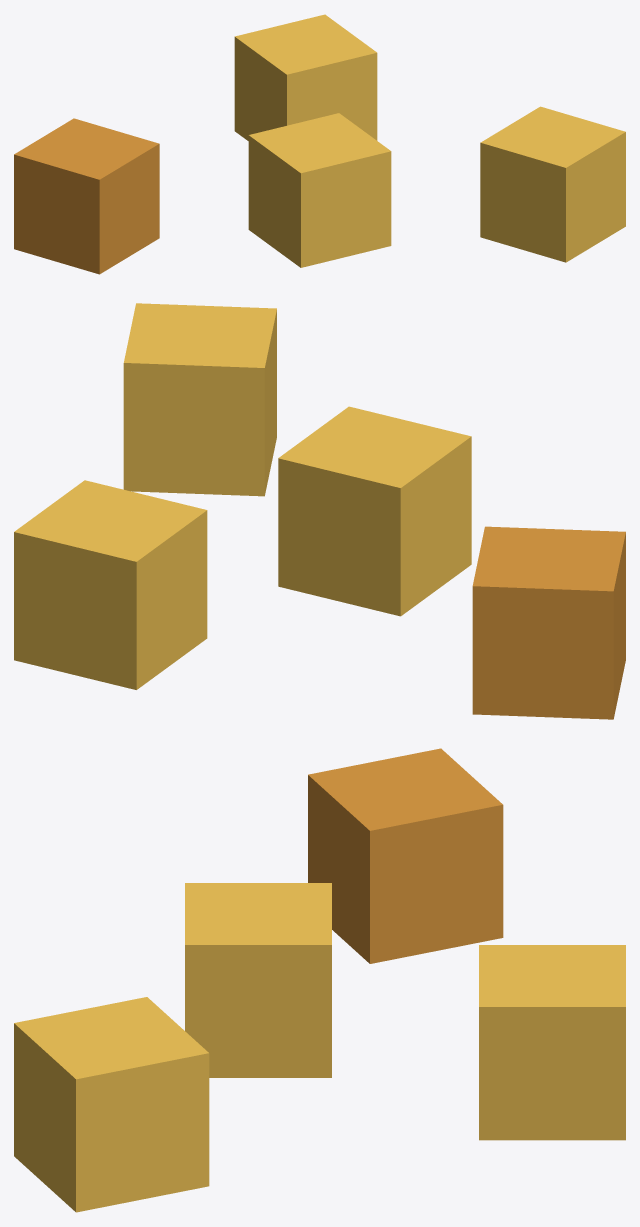
The model's file is corn-seeds.gltf.
The picture shows the model from 3 angles, top to bottom: view 1: azimuth 30°, elevation 25°; view 2: azimuth 150°, elevation 25°; view 3: azimuth 270°, elevation 25°; orthographic projection. The views are drawn at different scales.
Visible parts, largest first — view 1: cube (×4); view 2: cube (×4); view 3: cube (×4).
Part boxes in pixels (bbox=[...]): cube (×4): bbox=[14, 14, 625, 274]; cube (×4): bbox=[14, 303, 625, 719]; cube (×4): bbox=[14, 748, 625, 1212].
Size of the model in its own units: 0.3331 by 0.0625 by 0.2603.
1 material, 1 textured.
